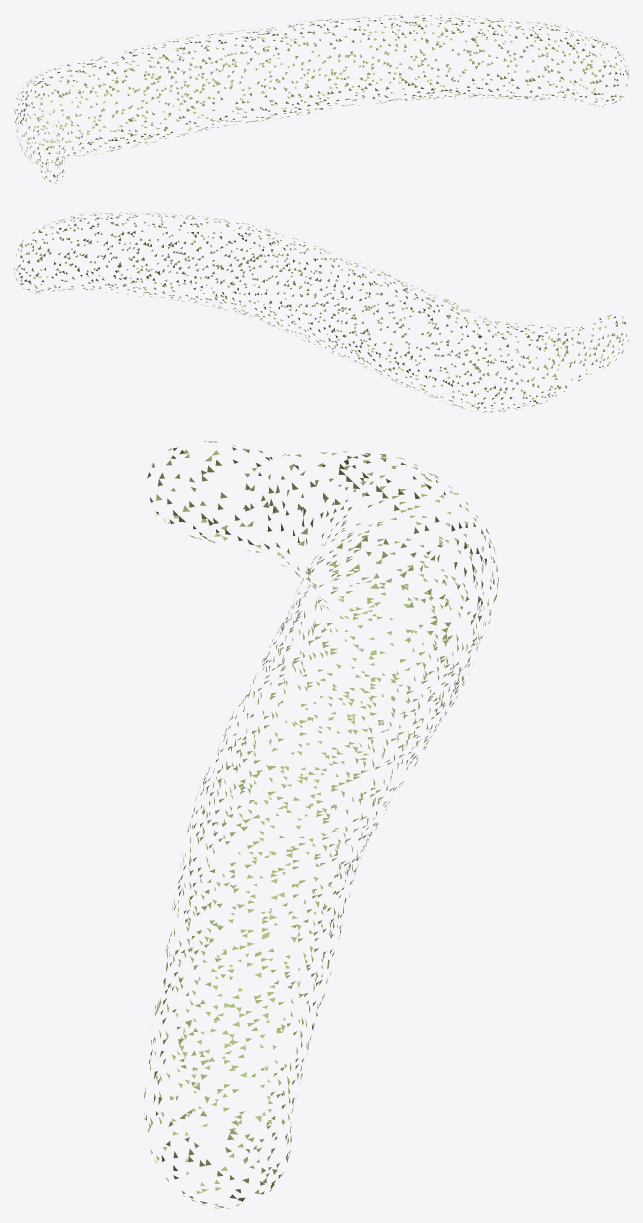
The model's file is morph_011.glb.
The picture shows the model from 3 angles, top to bottom: view 1: azimuth 30°, elevation 25°; view 2: azimuth 150°, elevation 25°; view 3: azimuth 270°, elevation 25°; orthographic projection. The views are drawn at different scales.
Size of the model in its own units: 133 by 27.7 by 34.7.
